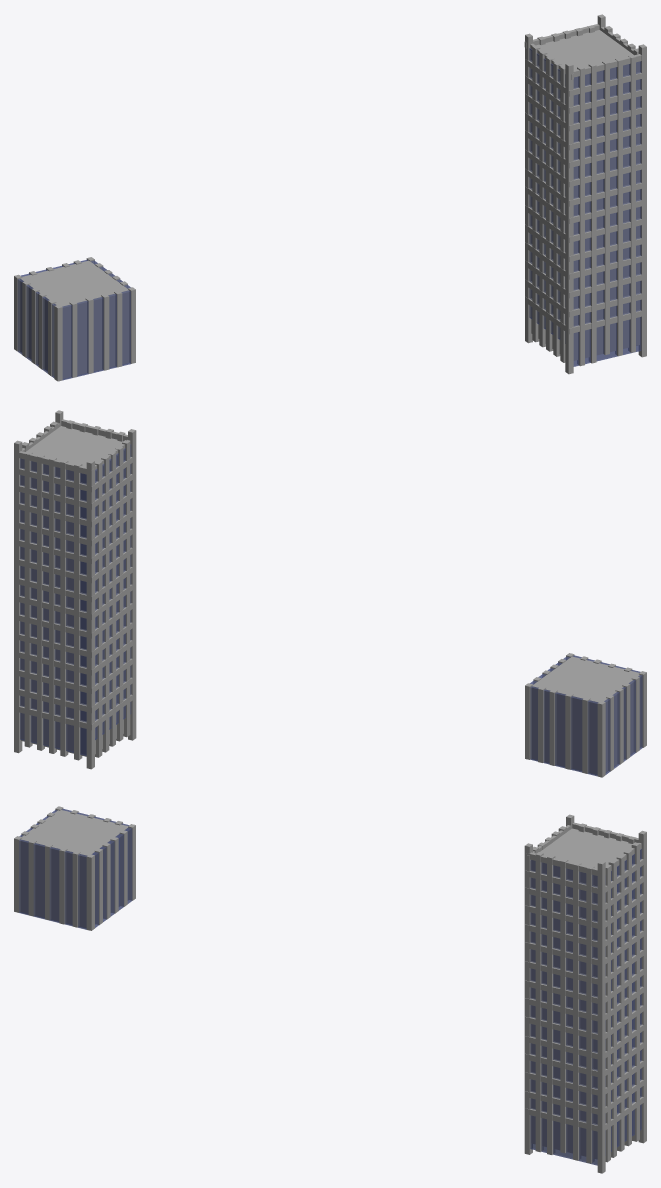
File: building3.fbx
The picture shows the model from 3 angles, top to bottom: view 1: azimuth 30°, elevation 25°; view 2: azimuth 150°, elevation 25°; view 3: azimuth 330°, elevation 25°; orthographic projection.
Parts seen in each view (by area): view 1: pCube74, pCube29, pCube38, pCube26, pCube40, pCube43, pCube50, pCube34, pCube42, pCube33, pCube36, pCube41 (+1 smaller); view 2: pCube74, pCube29, pCube28, pCube26, pCube44, pCube46, pCube47, pCube33, pCube48, pCube27, pCube36, pCube40 (+1 smaller); view 3: pCube74, pCube29, pCube38, pCube39, pCube41, pCube31, pCube30, pCube32, pCube49, pCube50, pCube27, pCube43 (+2 smaller).
Part boxes in pixels (left/top/right/bottom): pCube74: left=524, top=14, right=646, bottom=374; pCube29: left=20, top=260, right=128, bottom=378; pCube38: left=62, top=290, right=130, bottom=380; pCube26: left=17, top=279, right=55, bottom=377; pCube40: left=54, top=304, right=62, bottom=381; pCube43: left=101, top=294, right=109, bottom=370; pCube50: left=114, top=290, right=122, bottom=367; pCube34: left=22, top=281, right=30, bottom=357; pCube42: left=69, top=301, right=77, bottom=377; pCube33: left=31, top=288, right=39, bottom=364; pCube36: left=38, top=292, right=46, bottom=369; pCube41: left=128, top=287, right=135, bottom=363; pCube74: left=14, top=410, right=136, bottom=769; pCube29: left=532, top=656, right=640, bottom=774; pCube28: left=530, top=686, right=598, bottom=776; pCube26: left=604, top=675, right=642, bottom=774; pCube44: left=597, top=701, right=605, bottom=777; pCube46: left=549, top=689, right=557, bottom=765; pCube47: left=565, top=693, right=573, bottom=769; pCube33: left=615, top=688, right=623, bottom=764; pCube48: left=582, top=697, right=590, bottom=773; pCube27: left=525, top=683, right=532, bottom=759; pCube36: left=622, top=683, right=630, bottom=759; pCube40: left=638, top=671, right=646, bottom=747; pCube74: left=524, top=814, right=646, bottom=1173; pCube29: left=20, top=810, right=127, bottom=927; pCube38: left=19, top=839, right=86, bottom=929; pCube39: left=92, top=827, right=132, bottom=927; pCube41: left=86, top=854, right=94, bottom=930; pCube31: left=102, top=842, right=110, bottom=919; pCube30: left=110, top=837, right=118, bottom=913; pCube32: left=119, top=830, right=127, bottom=906; pCube49: left=94, top=848, right=102, bottom=924; pCube50: left=72, top=851, right=80, bottom=927; pCube27: left=128, top=824, right=135, bottom=900; pCube43: left=59, top=847, right=67, bottom=924.
Size of the model in its own units: 8.41 by 4.22 by 1.11.
